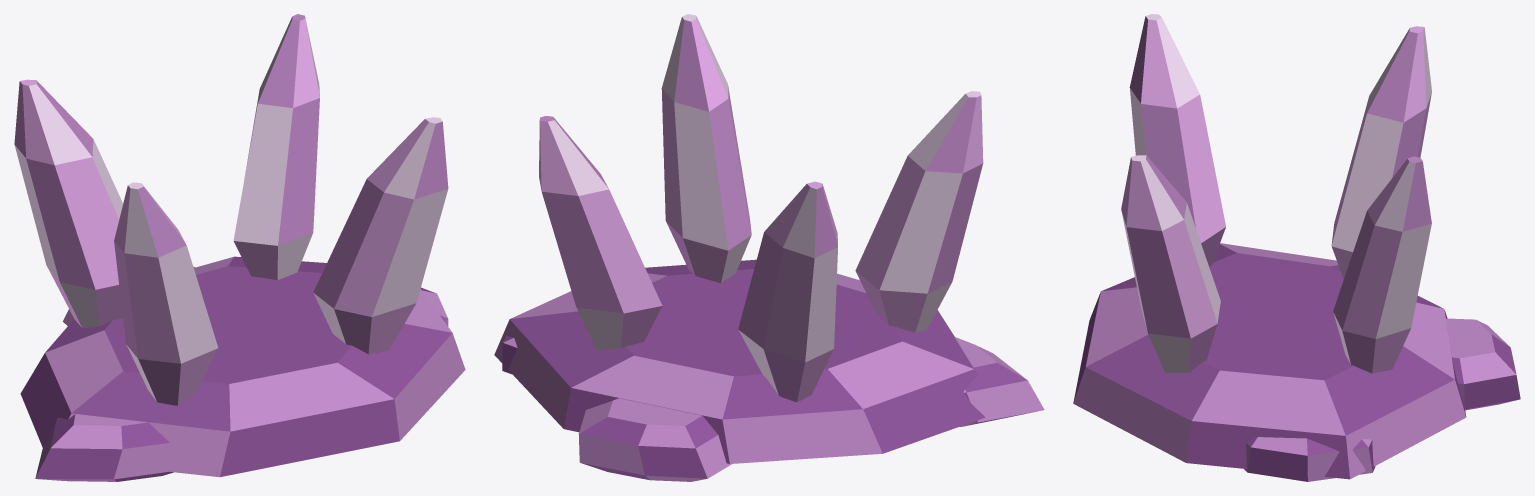
File: BH_ORE_O06_Ametista_de_Colheita_V01.glb
3 views of the same model, side by side, from view 1: azimuth 30°, elevation 25°; view 2: azimuth 150°, elevation 25°; view 3: azimuth 270°, elevation 25° (orthographic).
Parts seen in each view (by area): view 1: Bedrock | primary.001, X amethyst 4.001, X amethyst 3.001, X amethyst 2.001, X amethyst 1.001, Bedrock | shoulder 1.001; view 2: Bedrock | primary.001, X amethyst 1.001, X amethyst 4.001, X amethyst 3.001, X amethyst 2.001, Bedrock | shoulder 3.001, Bedrock | shoulder 1.001; view 3: Bedrock | primary.001, X amethyst 4.001, X amethyst 2.001, X amethyst 1.001, X amethyst 3.001, Bedrock | shoulder 3.001, Bedrock | shoulder 2.001.
Part boxes in pixels (x1,y1,x2,y2): Bedrock | primary.001: (20,256,465,477); X amethyst 4.001: (313,117,448,354); X amethyst 3.001: (14,79,122,328); X amethyst 2.001: (233,14,319,279); X amethyst 1.001: (114,182,218,405); Bedrock | shoulder 1.001: (35,414,173,481); Bedrock | primary.001: (494,259,985,463); X amethyst 1.001: (855,91,983,332); X amethyst 4.001: (661,14,751,282); X amethyst 3.001: (738,181,837,402); X amethyst 2.001: (539,116,662,350); Bedrock | shoulder 3.001: (578,398,731,481); Bedrock | shoulder 1.001: (954,337,1044,426); Bedrock | primary.001: (1073,243,1466,479); X amethyst 4.001: (1121,155,1220,373); X amethyst 2.001: (1333,156,1431,373); X amethyst 1.001: (1129,14,1225,266); X amethyst 3.001: (1331,26,1431,279); Bedrock | shoulder 3.001: (1446,318,1520,410); Bedrock | shoulder 2.001: (1244,437,1375,481).
Size of the model in its own units: 2.55 by 1.57 by 2.14.
